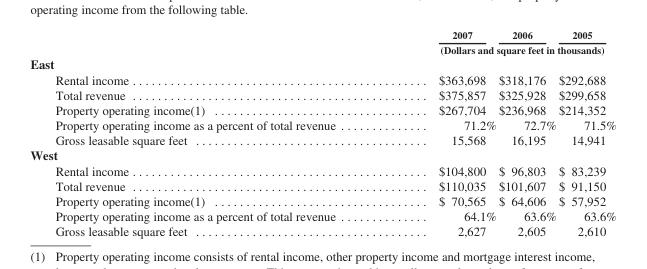table: (29, 28, 615, 237)
table column: (29, 28, 386, 237), (386, 28, 496, 237), (496, 28, 556, 237), (556, 28, 615, 237)
table column header: (29, 28, 615, 56)
table projected row header: (29, 56, 615, 71), (29, 147, 615, 162)
table row: (29, 86, 615, 102), (29, 192, 615, 208), (29, 56, 615, 71), (29, 71, 615, 86), (29, 102, 615, 117), (29, 117, 615, 132), (29, 132, 615, 147), (29, 147, 615, 162), (29, 162, 615, 177), (29, 177, 615, 192), (29, 208, 615, 223), (29, 28, 615, 42), (29, 42, 615, 56), (29, 223, 615, 237)
table spanning cell: (386, 42, 615, 56)
